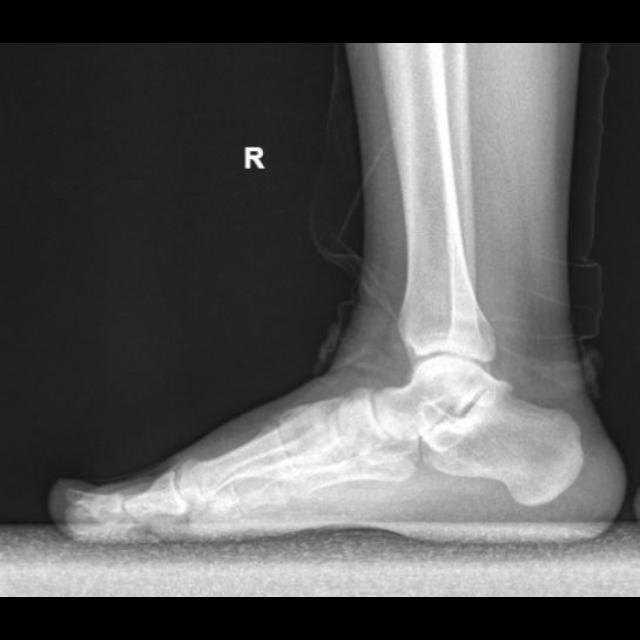a: (422, 390, 582, 506)
b: (340, 386, 402, 463)
c: (177, 424, 296, 503)
